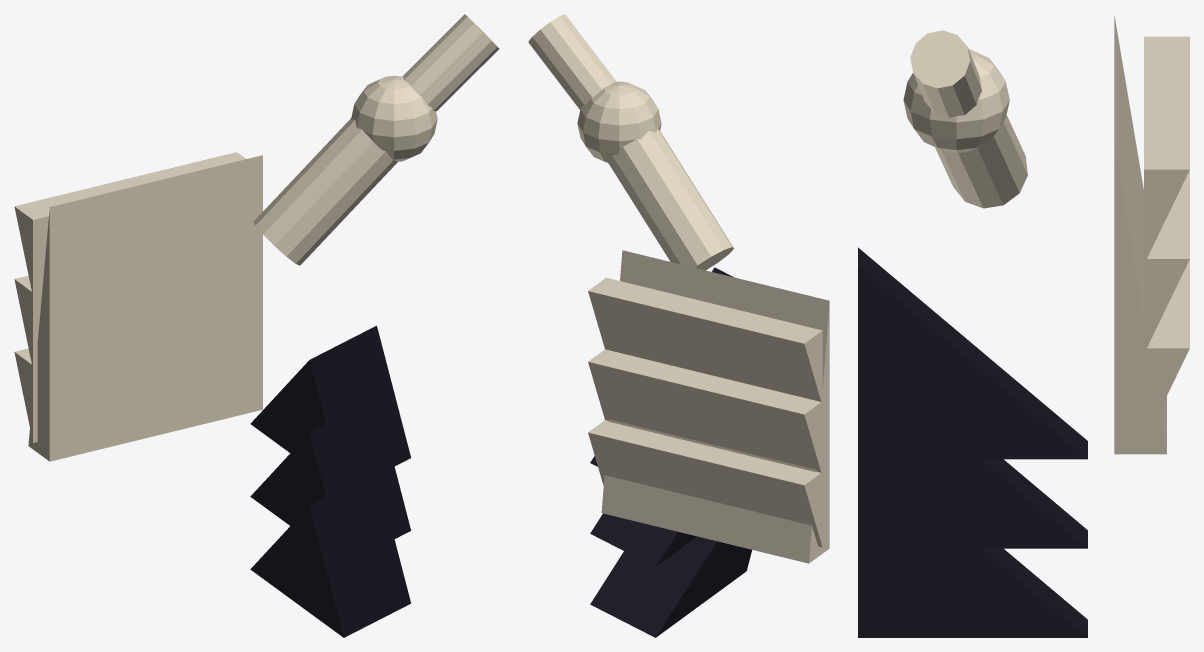
File: BoneArmorRightUpperArm.obj
The picture shows the model from 3 angles, left to right: view 1: azimuth 30°, elevation 25°; view 2: azimuth 150°, elevation 25°; view 3: azimuth 270°, elevation 25°; orthographic projection. The views are drawn at different scales.
Parts seen in each view (by area): view 1: BoneArmorRightUpperArm; view 2: BoneArmorRightUpperArm; view 3: BoneArmorRightUpperArm.
Part boxes in pixels (x1=…): BoneArmorRightUpperArm: x1=14, y1=14, x2=499, y2=637; BoneArmorRightUpperArm: x1=528, y1=14, x2=829, y2=637; BoneArmorRightUpperArm: x1=858, y1=15, x2=1189, y2=637.
Bounding box in the file's own units: 1.64 × 2.3 × 1.01.
